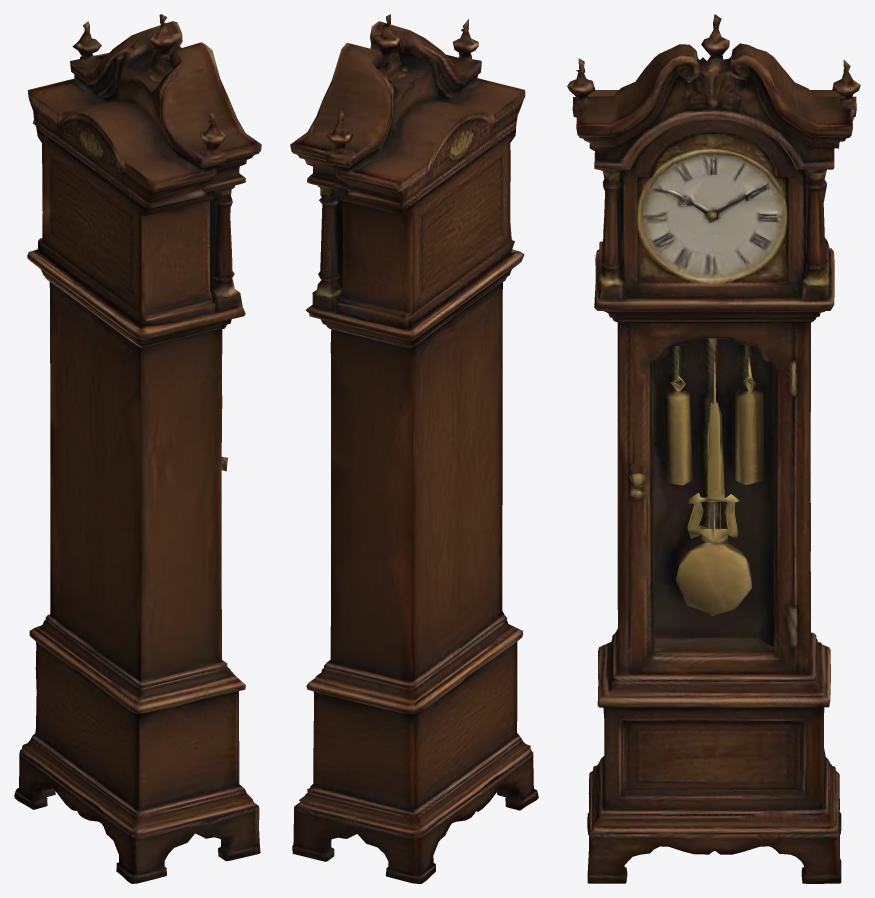
File: clock.glb
3 views of the same model, side by side, from view 1: azimuth 30°, elevation 25°; view 2: azimuth 150°, elevation 25°; view 3: azimuth 270°, elevation 25° (orthographic). The views are drawn at different scales.
Visible parts, largest first — view 1: tripo_node_2d769738-2a32-4287-9841-82a653ce7412; view 2: tripo_node_2d769738-2a32-4287-9841-82a653ce7412; view 3: tripo_node_2d769738-2a32-4287-9841-82a653ce7412.
Boxes of the visible parts, x1,y1,x2,y2 form: tripo_node_2d769738-2a32-4287-9841-82a653ce7412: (14, 14, 261, 883); tripo_node_2d769738-2a32-4287-9841-82a653ce7412: (290, 14, 538, 883); tripo_node_2d769738-2a32-4287-9841-82a653ce7412: (567, 14, 860, 883).
Size of the model in its own units: 0.1652 by 0.9826 by 0.3078.
1 material, 1 textured.
